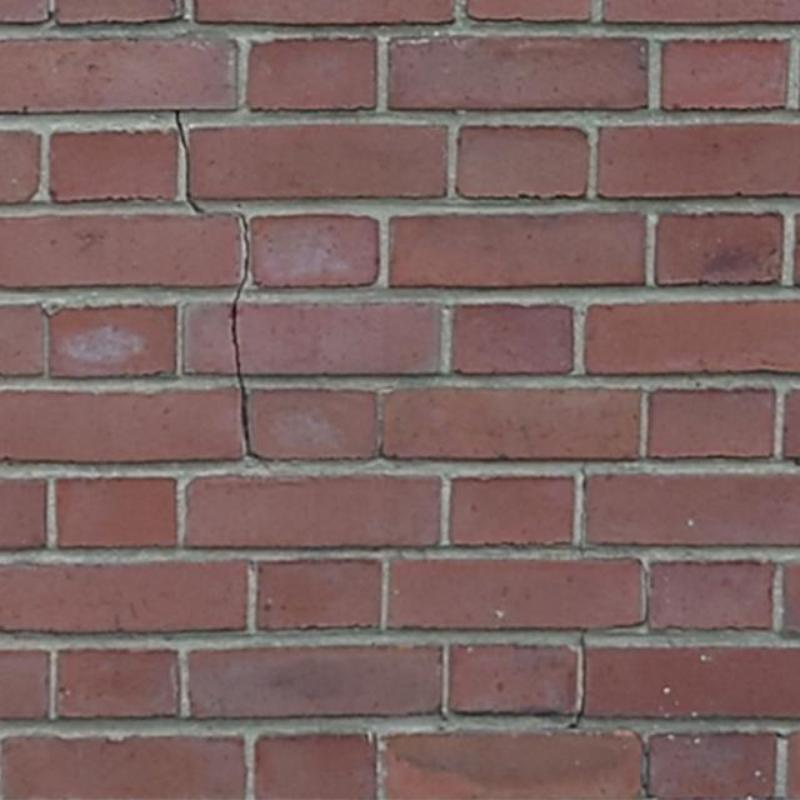pothole: (232, 212, 261, 462), (174, 111, 205, 213), (610, 559, 650, 630), (565, 630, 587, 728)
